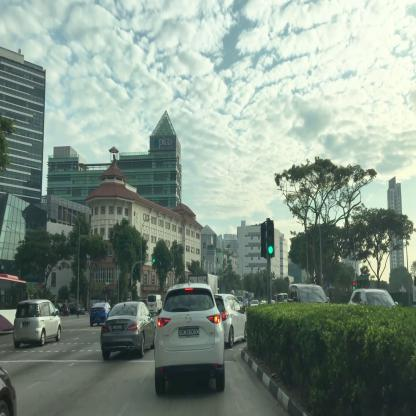green_traffic_light: (268, 223, 274, 256)
